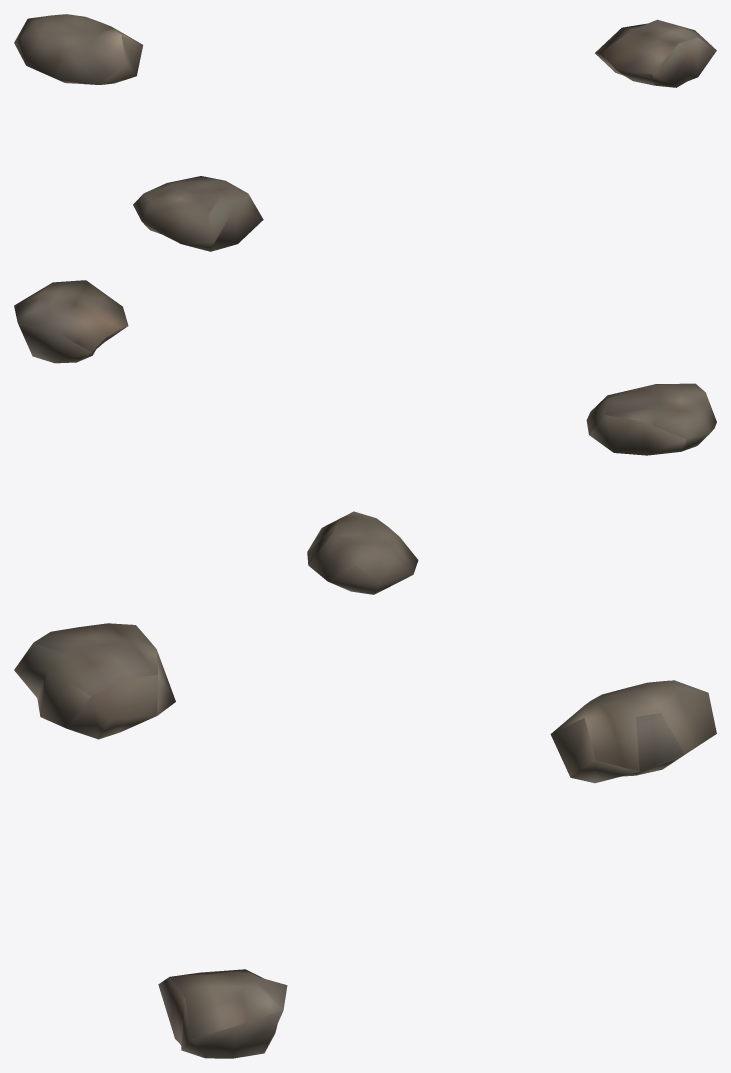
File: pebble_cluster_3_001.fbx
3 views of the same model, one above another, from view 1: azimuth 30°, elevation 25°; view 2: azimuth 150°, elevation 25°; view 3: azimuth 270°, elevation 25° (orthographic). The views are drawn at different scales.
Visible parts, largest first — view 1: pebble_cluster_3.001; view 2: pebble_cluster_3.001; view 3: pebble_cluster_3.001.
Boxes of the visible parts, box(x1,y1,x2,y2) form: pebble_cluster_3.001: box(14, 14, 716, 251); pebble_cluster_3.001: box(14, 280, 716, 594); pebble_cluster_3.001: box(14, 623, 716, 1058).
Size of the model in its own units: 143 by 12.54 by 106.
Materials: 1 (1 with a texture image).
